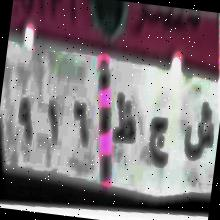1: (42, 91, 64, 160)
6: (64, 90, 94, 149)
9: (15, 94, 38, 142)
Thaa: (106, 86, 142, 152)
jeem: (142, 101, 174, 168)
sheen: (180, 94, 219, 172)
